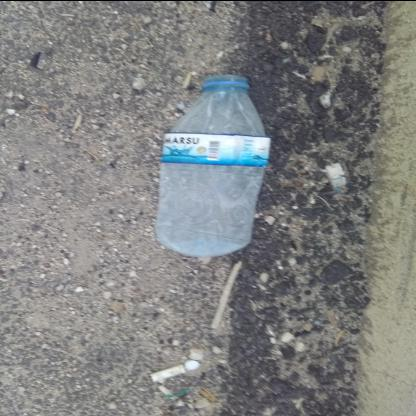plastik: (157, 73, 273, 258)
